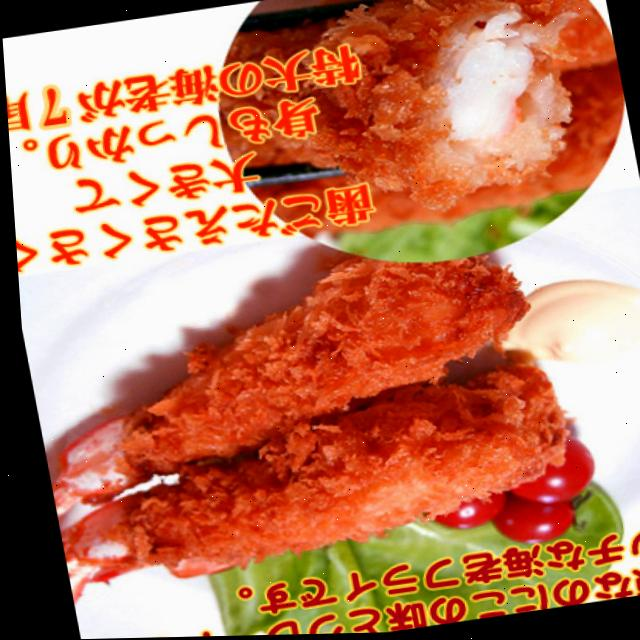炸货点心: (12, 228, 624, 640)
熟制海鲜: (12, 228, 624, 640)
